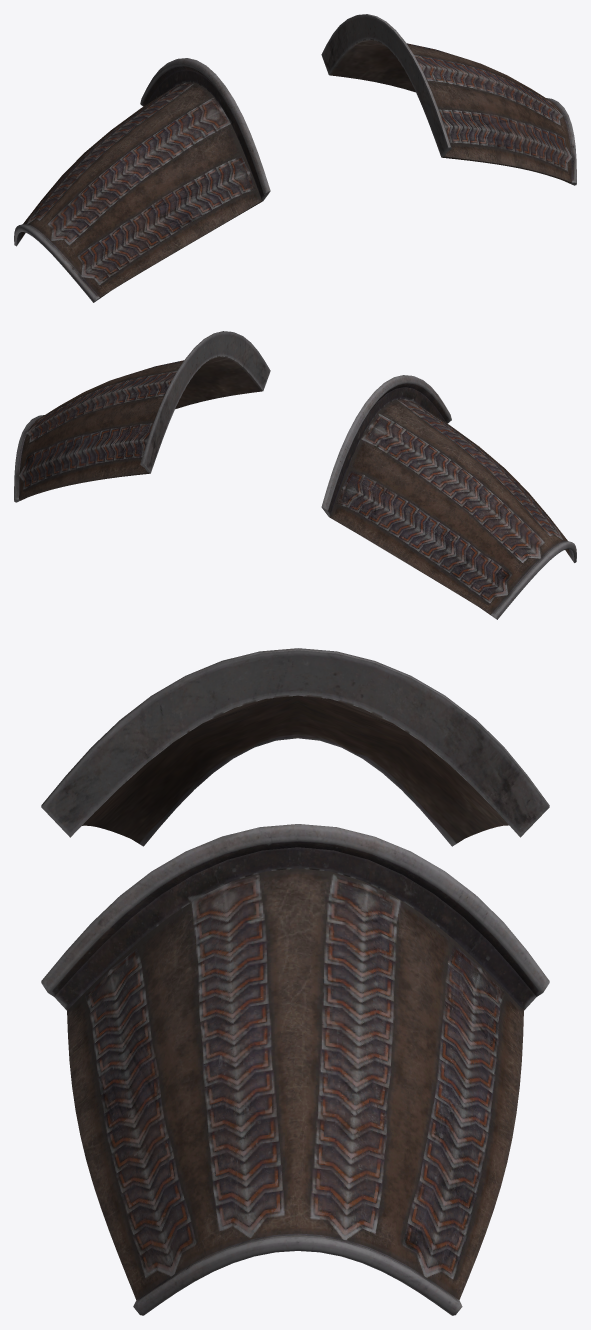
File: sk_dwarf_iron_pauldron_med_a.fbx
3 views of the same model, one above another, from view 1: azimuth 30°, elevation 25°; view 2: azimuth 150°, elevation 25°; view 3: azimuth 270°, elevation 25° (orthographic). The views are drawn at different scales.
Visible parts, largest first — view 1: sk_dwarf_iron_pauldron_med_a; view 2: sk_dwarf_iron_pauldron_med_a; view 3: sk_dwarf_iron_pauldron_med_a.
Boxes of the visible parts, left/top/right/bottom form: sk_dwarf_iron_pauldron_med_a: left=14, top=14, right=576, bottom=302; sk_dwarf_iron_pauldron_med_a: left=14, top=331, right=576, bottom=619; sk_dwarf_iron_pauldron_med_a: left=41, top=648, right=549, bottom=1315.
Bounding box in the file's own units: 0.7217 × 0.3008 × 0.2248.
Materials: 1 (1 with a texture image).
